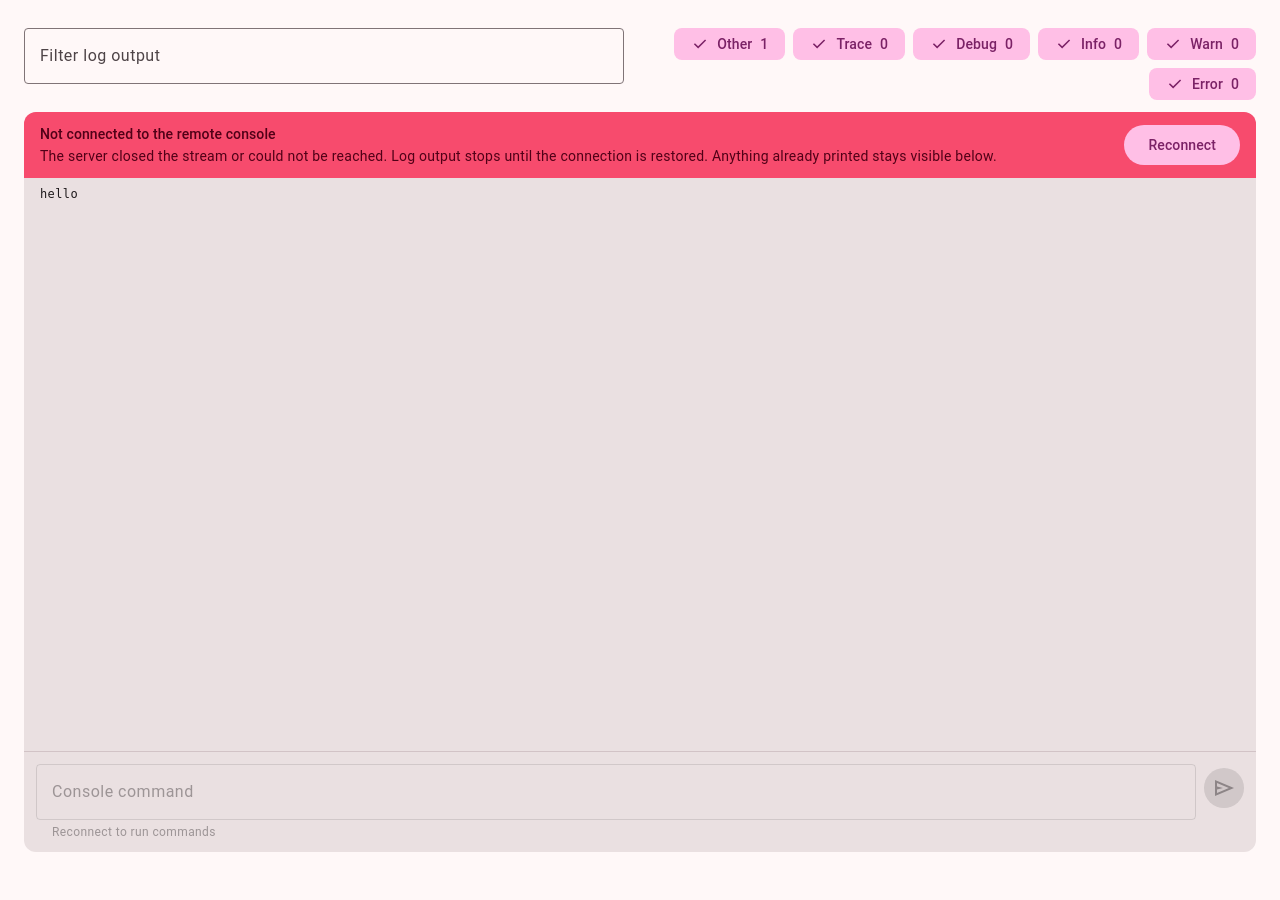
Test: ConsoleView › keeps the lines printed before a reconnect and marks where the connection came back
Click the button "Reconnect".
click(1182, 145)  # box x1=1124 y1=125 x2=1240 y2=165
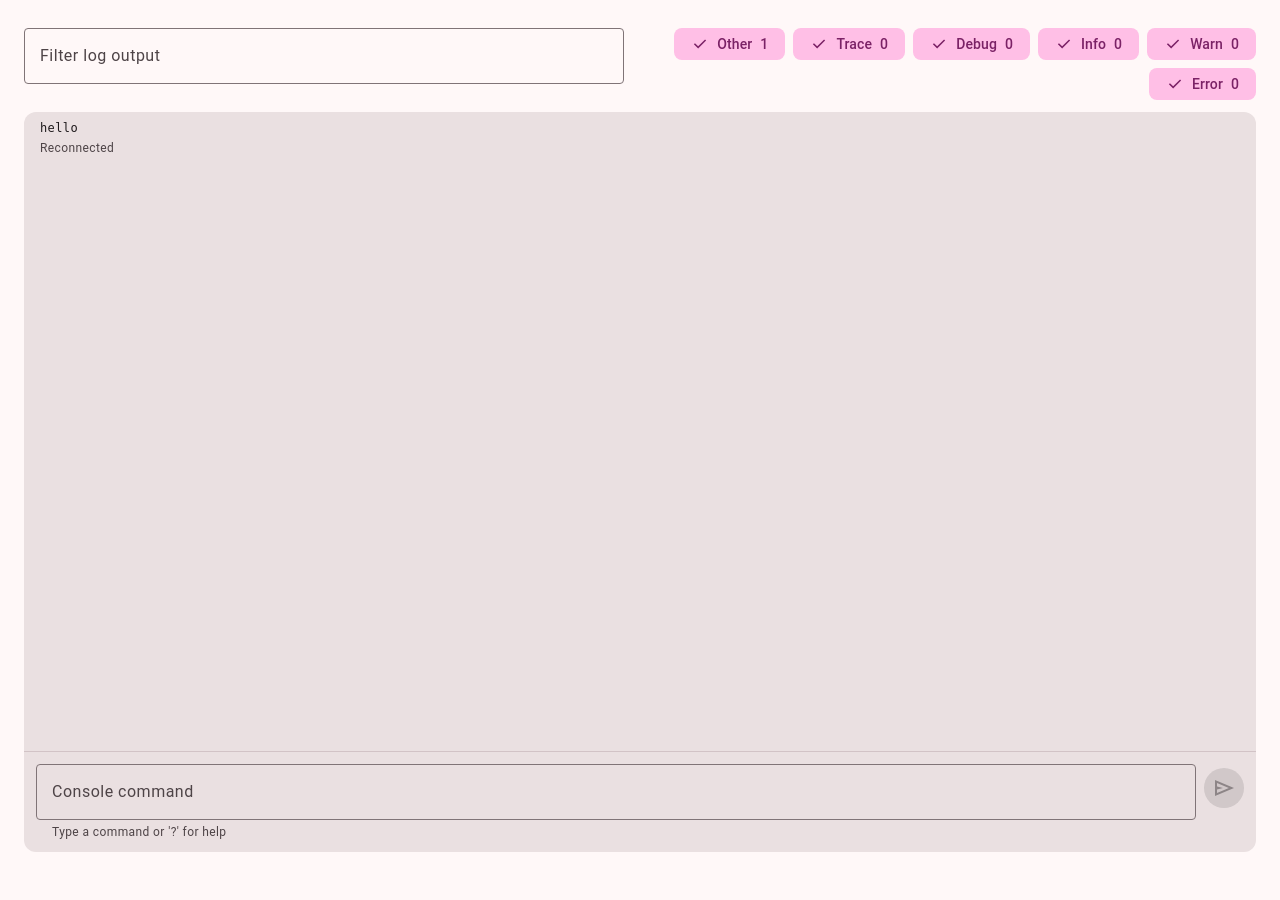
Expected: the element with id "console" shows "hello", x1=40 y1=121 x2=78 y2=135
Expected: the element with id "console" shows "Reconnected", x1=40 y1=141 x2=114 y2=155
